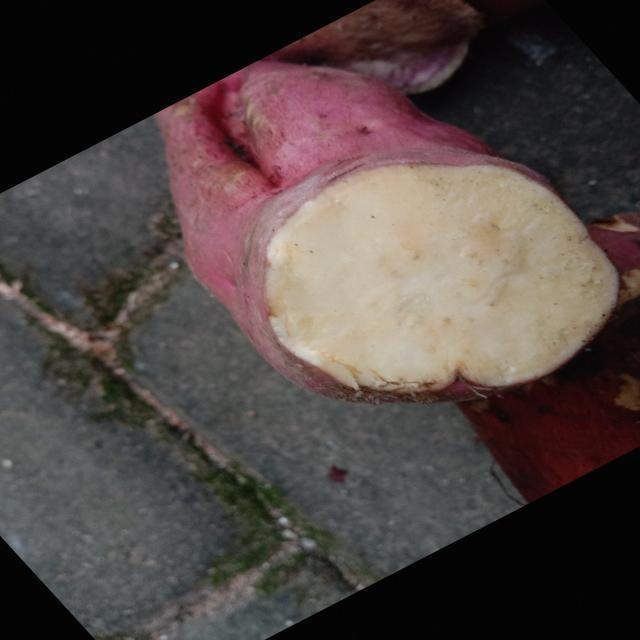Healthy Sweet Potato: (265, 164, 617, 394)
